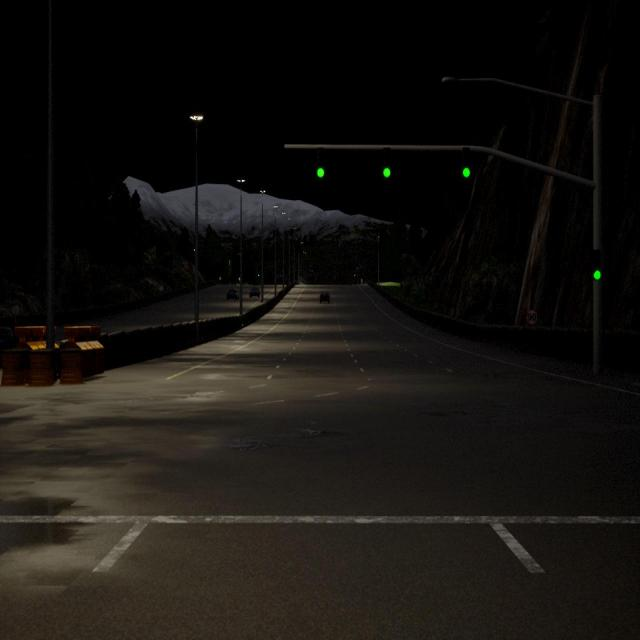Traffic_Signs: (524, 308, 540, 330), (12, 305, 19, 315), (160, 286, 163, 290)
Vehicle: (317, 288, 332, 307), (226, 288, 239, 300), (249, 287, 260, 298)
traffic_light: (314, 146, 328, 180), (591, 247, 602, 285), (382, 147, 392, 180), (462, 146, 471, 182)
